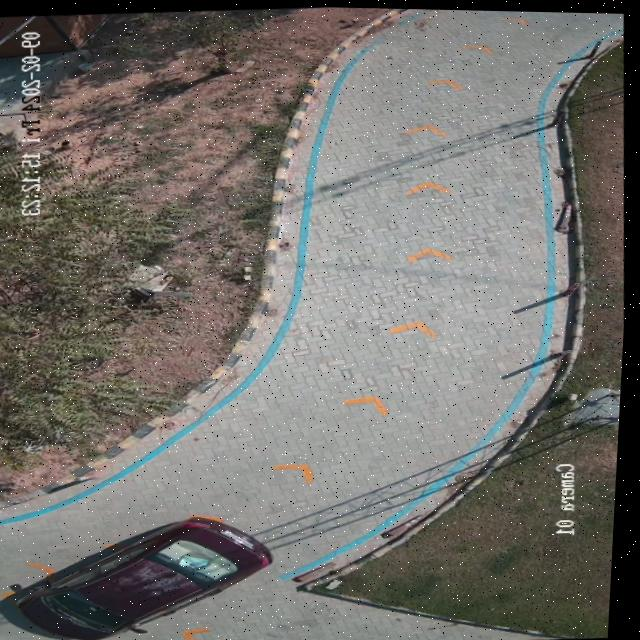car: (23, 516, 277, 639)
